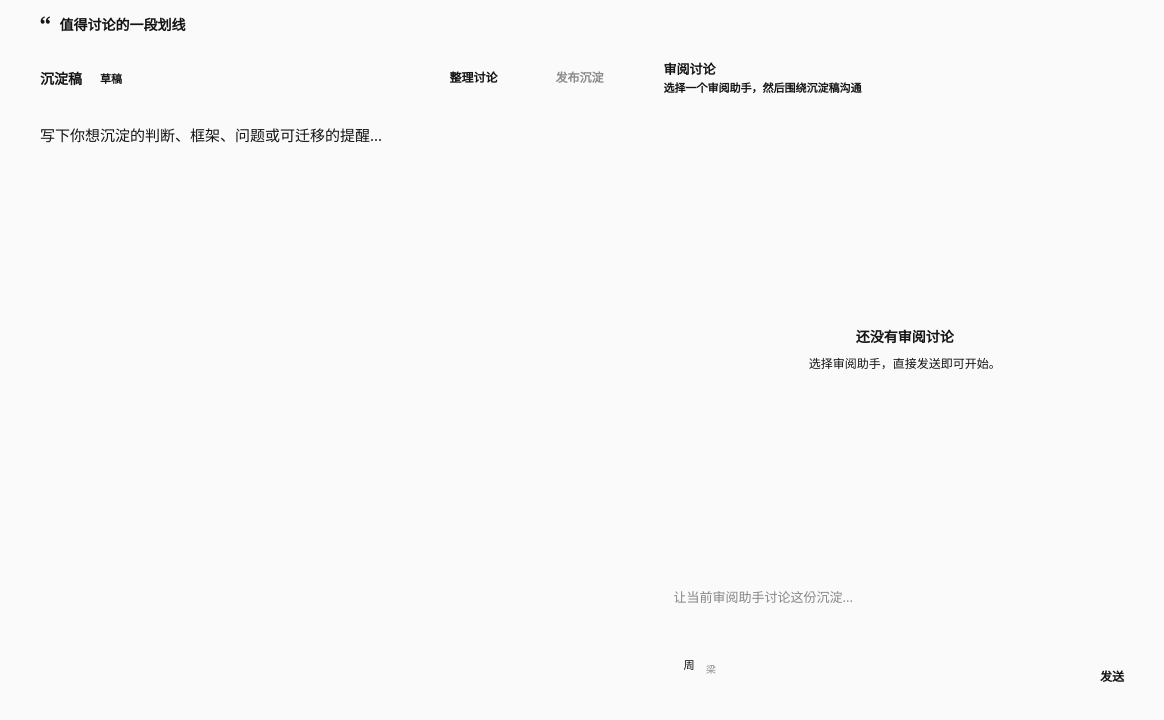
Test: annotation distillation UI › marks failed distillation review messages as failed
expect the text box with placeholder "让当前审阅助手讨论这份沉淀..." is shown: met, box [674, 588, 1136, 628]
Click the button "发送" at (1102, 677), box [1068, 662, 1136, 692]
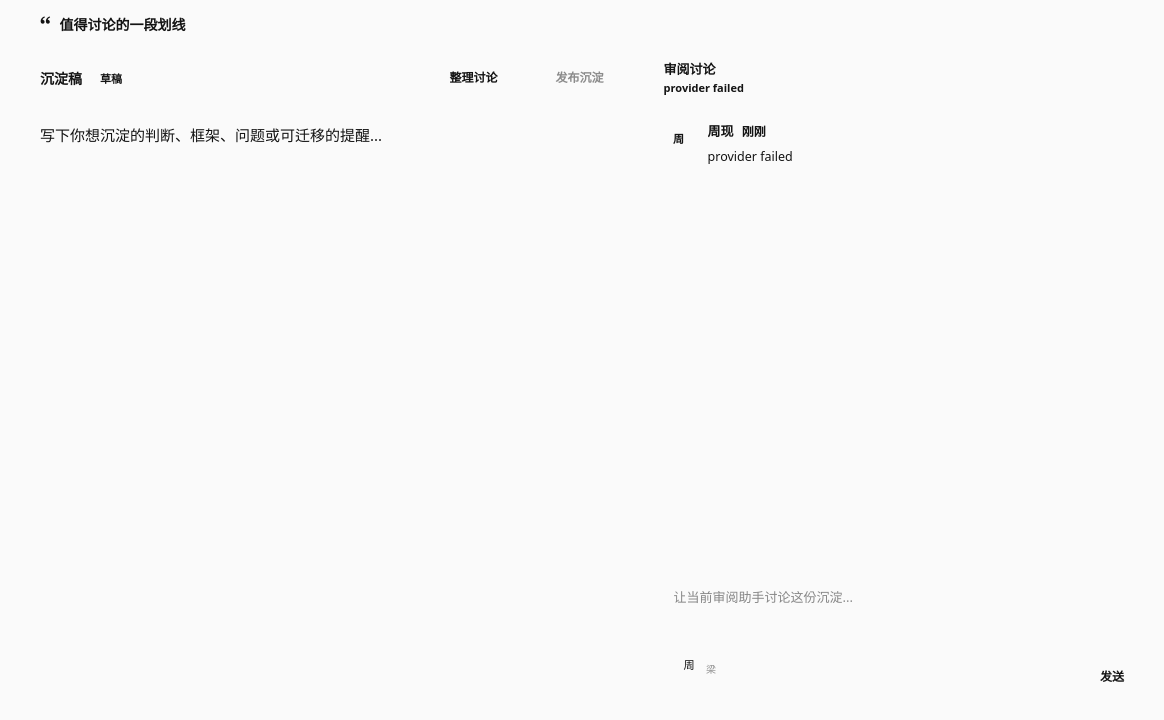
expect the text "provider failed" is shown 2 times: met, box [664, 81, 744, 96]; [708, 148, 793, 164]
